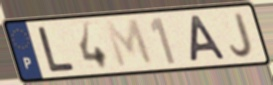1: (149, 16, 177, 66)
4: (80, 20, 111, 72)
A: (189, 13, 229, 64)
J: (228, 11, 254, 59)
L: (35, 25, 77, 74)
M: (102, 16, 156, 70)
